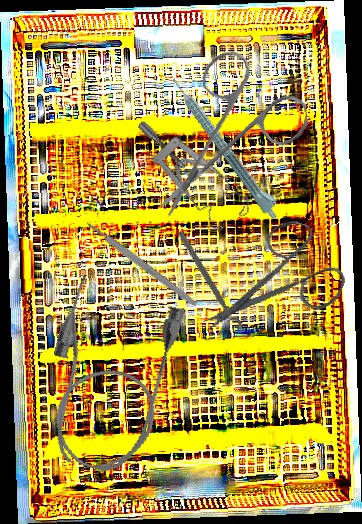Cannula: (29, 271, 187, 481)
Fixation Ring: (169, 228, 245, 338)
Handpiece: (168, 71, 286, 222)
Iris Scissors: (145, 43, 316, 218), (200, 202, 359, 370)
Scalpel Handle: (85, 219, 199, 309)
Speculum: (136, 95, 256, 246)
